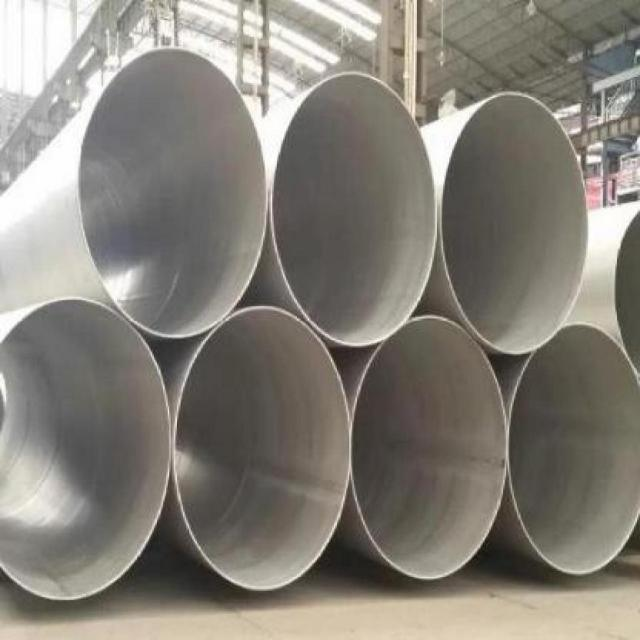pipe: (72, 43, 272, 339), (167, 301, 355, 595), (0, 293, 176, 604), (263, 70, 440, 352), (434, 87, 594, 359), (348, 316, 509, 584), (509, 320, 640, 579), (610, 197, 640, 376)
